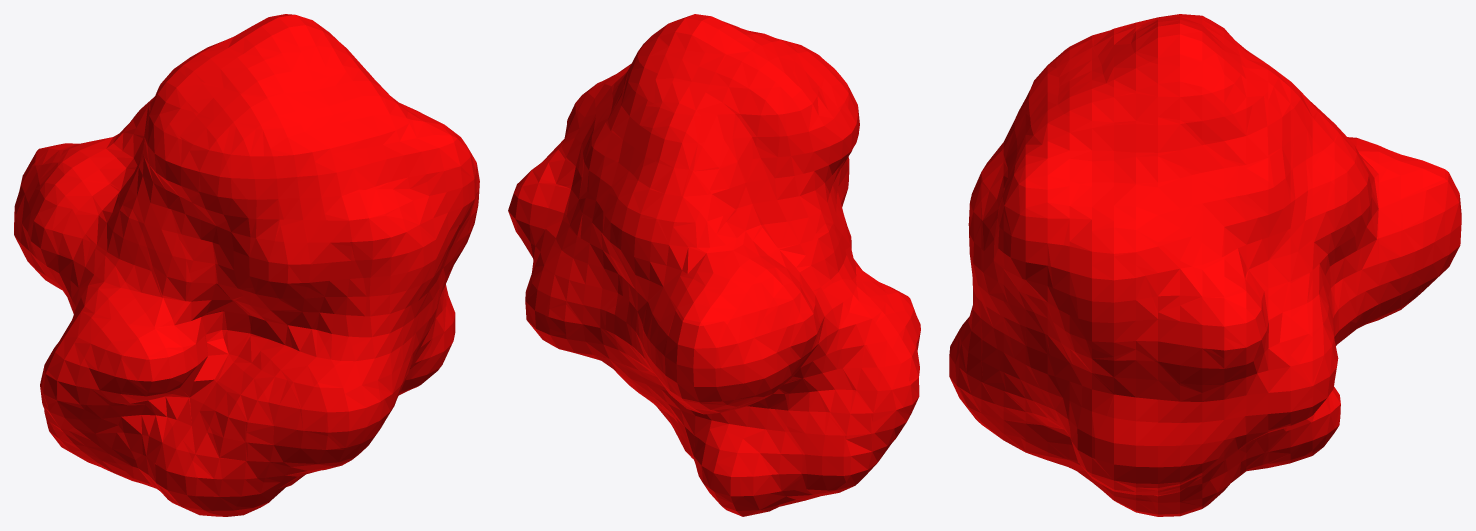
Rendered from deoD_coarse.dae.
3 renders of one model, left to right at view 1: azimuth 30°, elevation 25°; view 2: azimuth 150°, elevation 25°; view 3: azimuth 270°, elevation 25°, orthographic. The views are drawn at different scales.
Visible parts, largest first — view 1: deoD; view 2: deoD; view 3: deoD.
Part boxes in pixels (x1,y1,x2,y2): deoD: (14, 14, 479, 516); deoD: (508, 14, 920, 516); deoD: (949, 14, 1461, 516).
Bounding box in the file's own units: 49.38 × 54.46 × 49.98.
